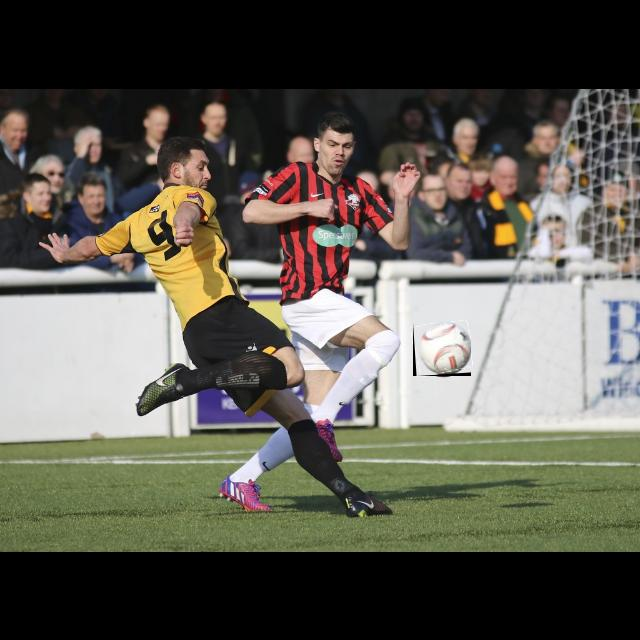Football: (413, 322, 471, 376)
